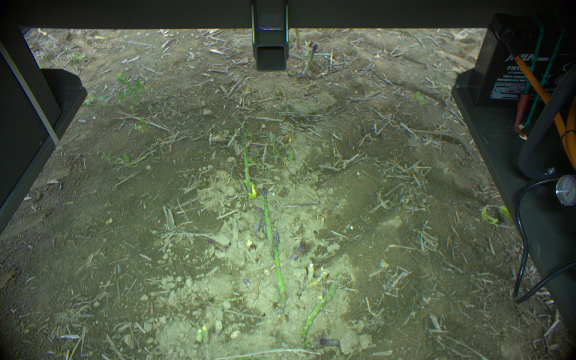aspa: (300, 282, 344, 348), (271, 229, 287, 313), (237, 126, 254, 193), (260, 187, 276, 253), (301, 43, 317, 81), (290, 240, 305, 260), (293, 27, 303, 53)
